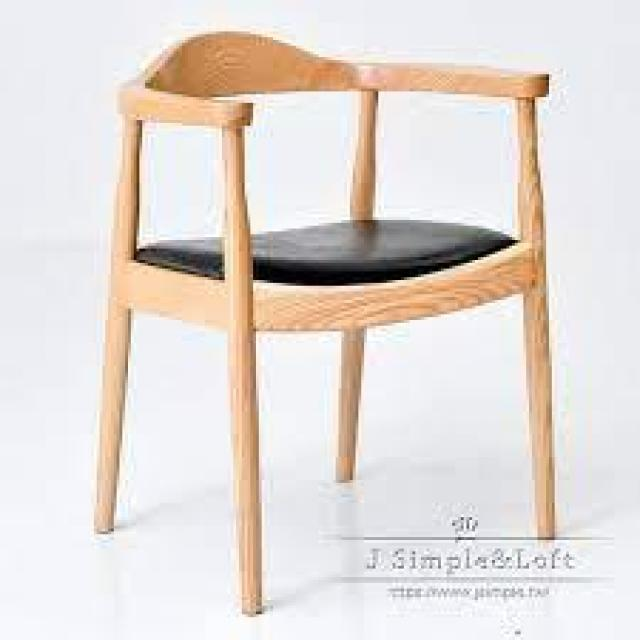chair: (77, 19, 577, 598)
